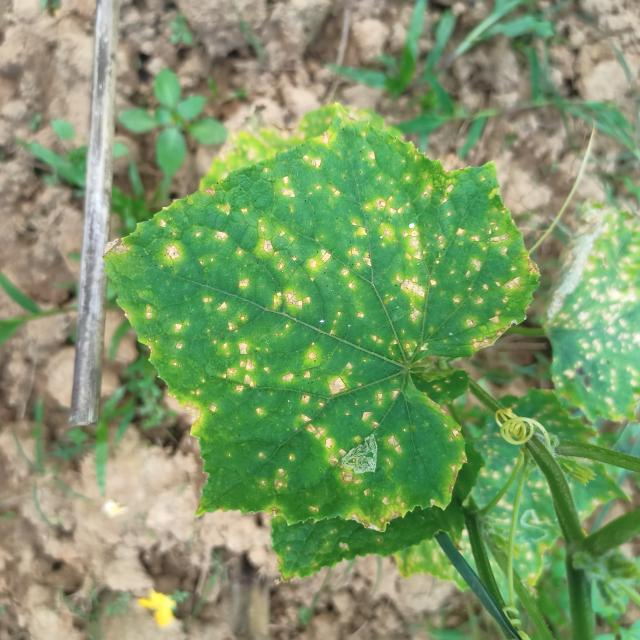disease_cucumber: (130, 134, 529, 522)
